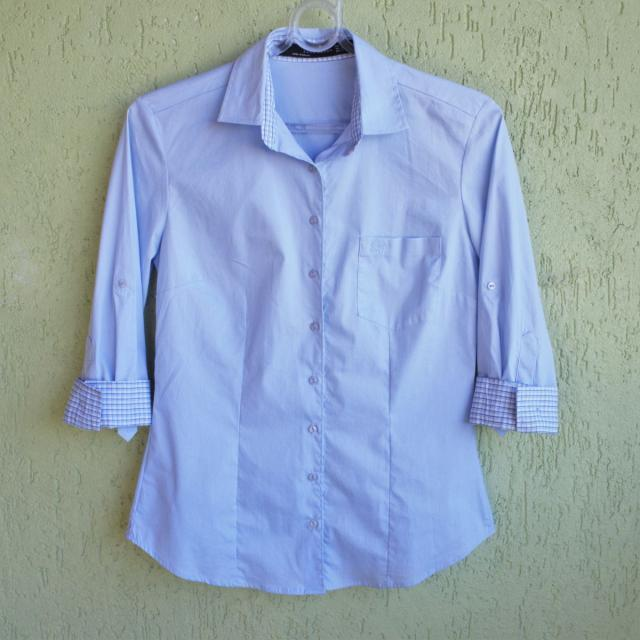long sleeve shirt: (64, 24, 563, 599)
